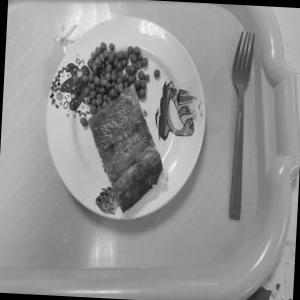casserole: (50, 41, 182, 218)
